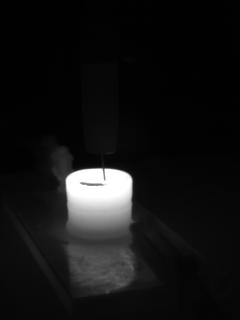tip_wire_left: (85, 148, 106, 183)
tip_wire_right: (104, 146, 118, 184)
